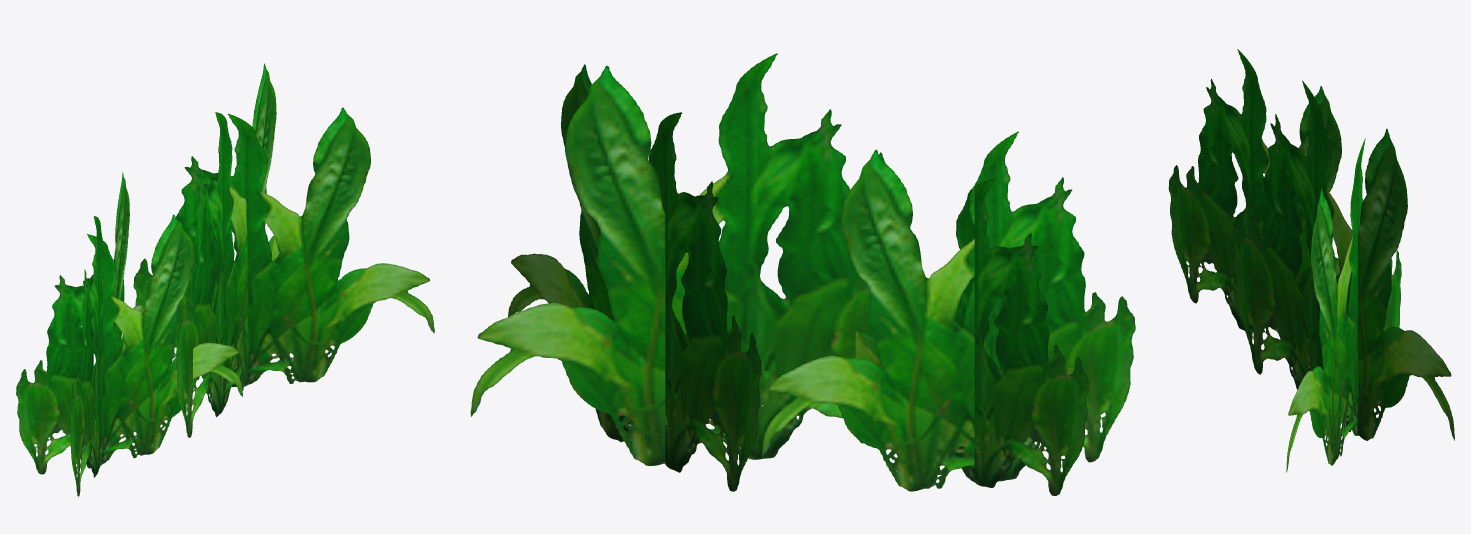
Rendered from Model_WaterPlant_06.fbx.
3 renders of one model, left to right at view 1: azimuth 30°, elevation 25°; view 2: azimuth 150°, elevation 25°; view 3: azimuth 270°, elevation 25°, orthographic. The views are drawn at different scales.
Parts seen in each view (by area): view 1: WaterPlant_06; view 2: WaterPlant_06; view 3: WaterPlant_06.
Boxes of the visible parts, <box> form: WaterPlant_06: <box>16,63,434,496</box>; WaterPlant_06: <box>470,53,1135,495</box>; WaterPlant_06: <box>1168,49,1454,472</box>.
Size of the model in its own units: 188 by 131 by 103.
